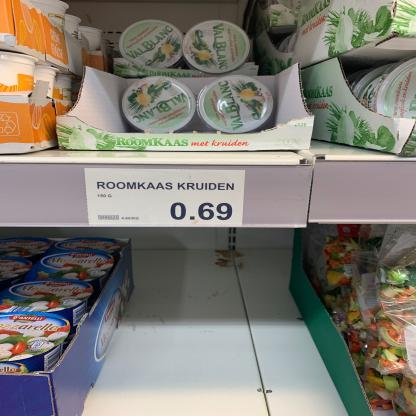prtg: (85, 169, 246, 228)
